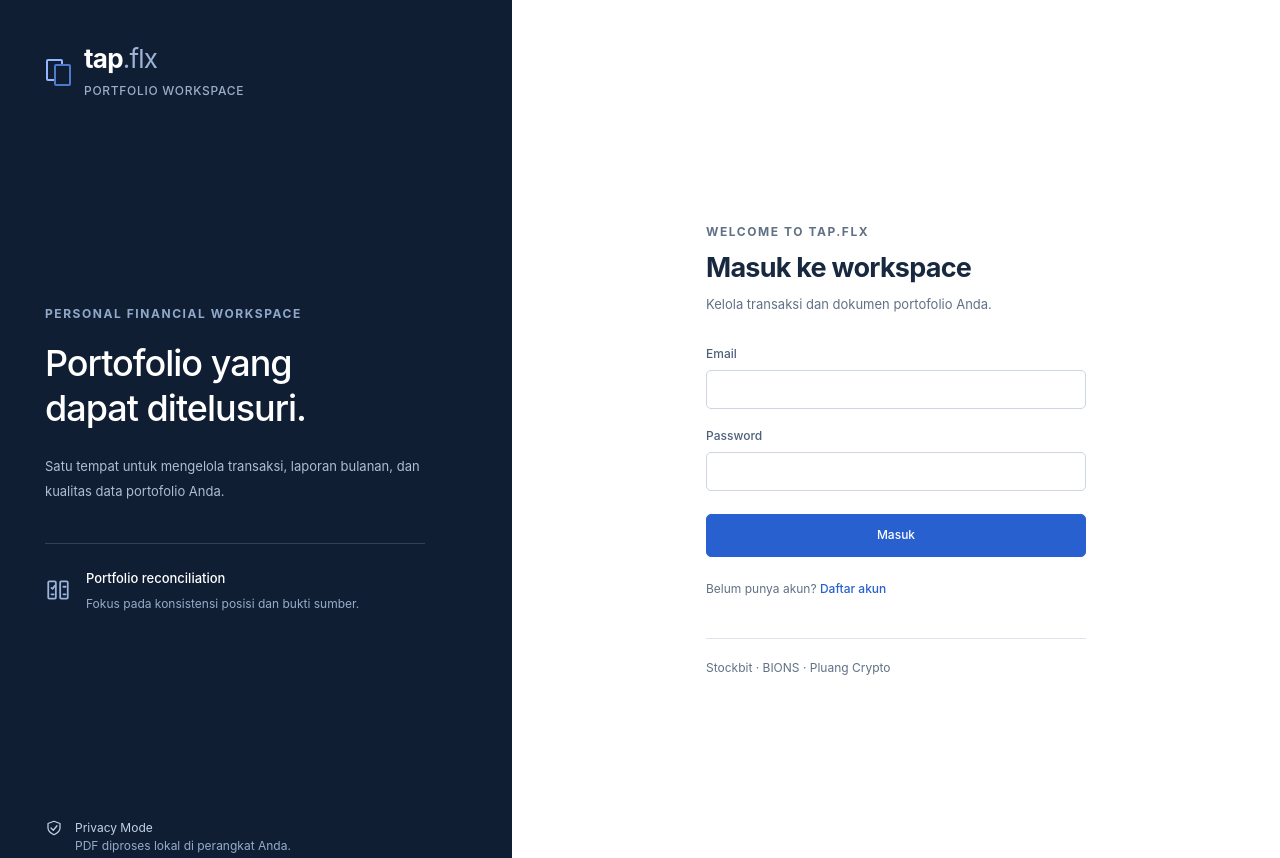
Test case: guards authenticated pages and preserves the requested destination after login
Expected: the heading "Masuk ke workspace" is shown, [706,251,971,284]
Type "demo@example.test" into the field labelled "Email" at [896, 389], box [706,370,1086,409]
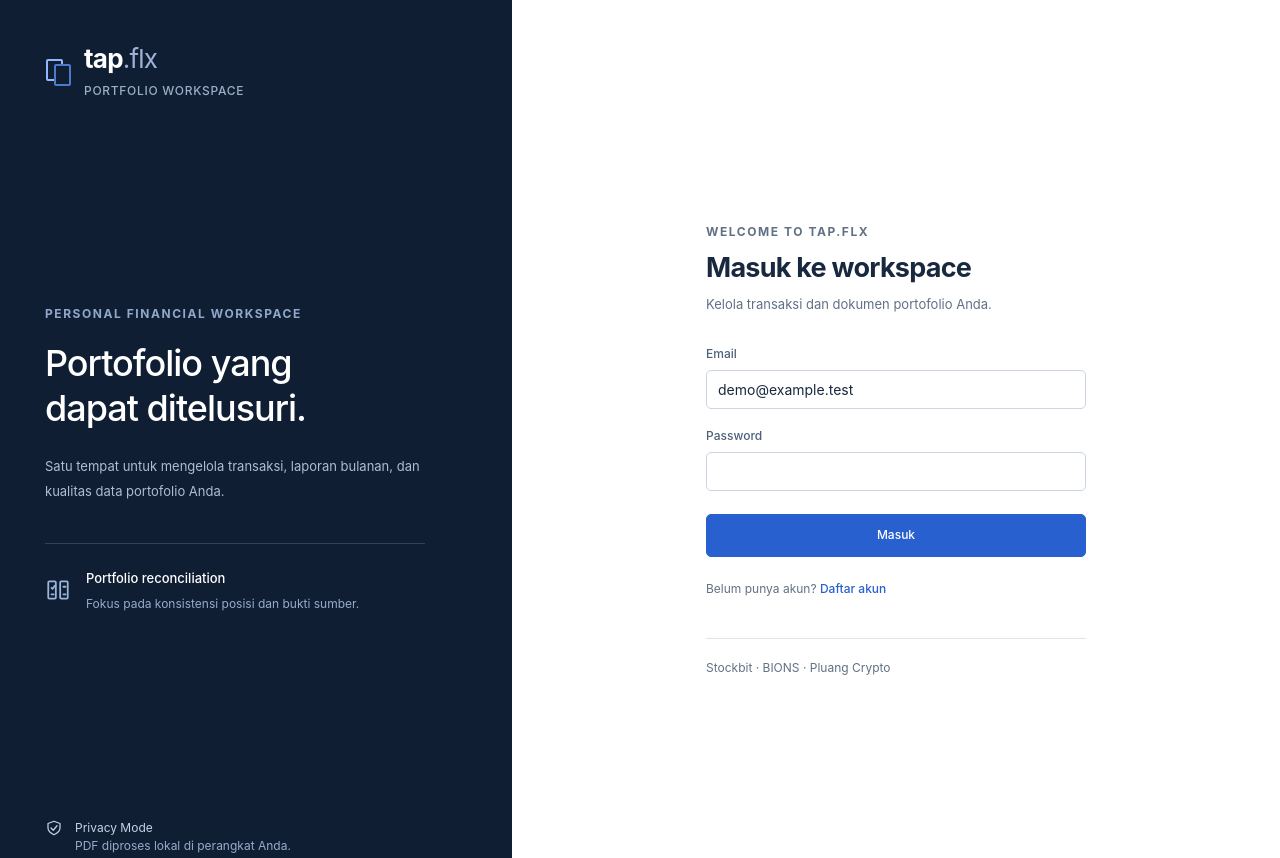
Type "  meaningful spaces  " into the password field labelled "Password" at [896, 471], box [706,452,1086,491]
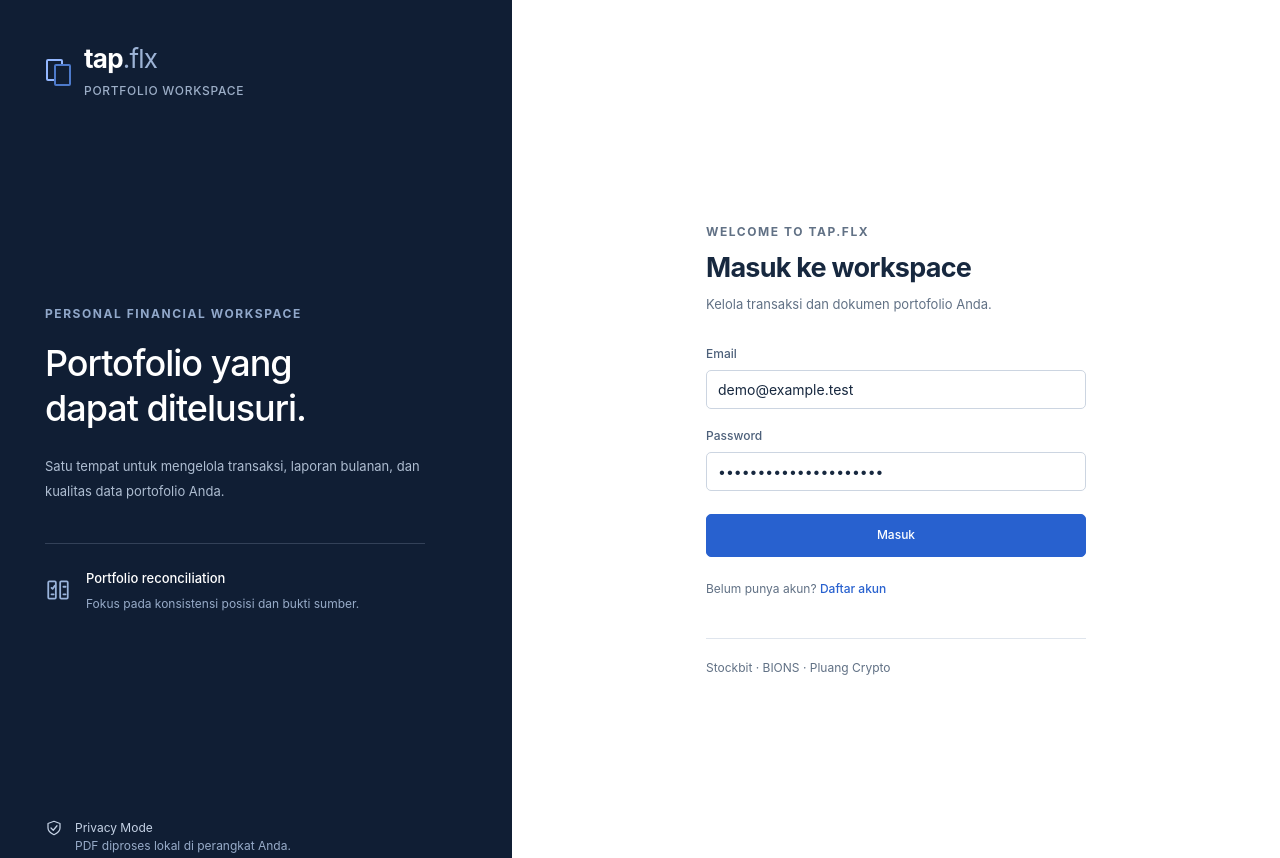
Click the button "Masuk" at [896, 535], box [706,514,1086,557]
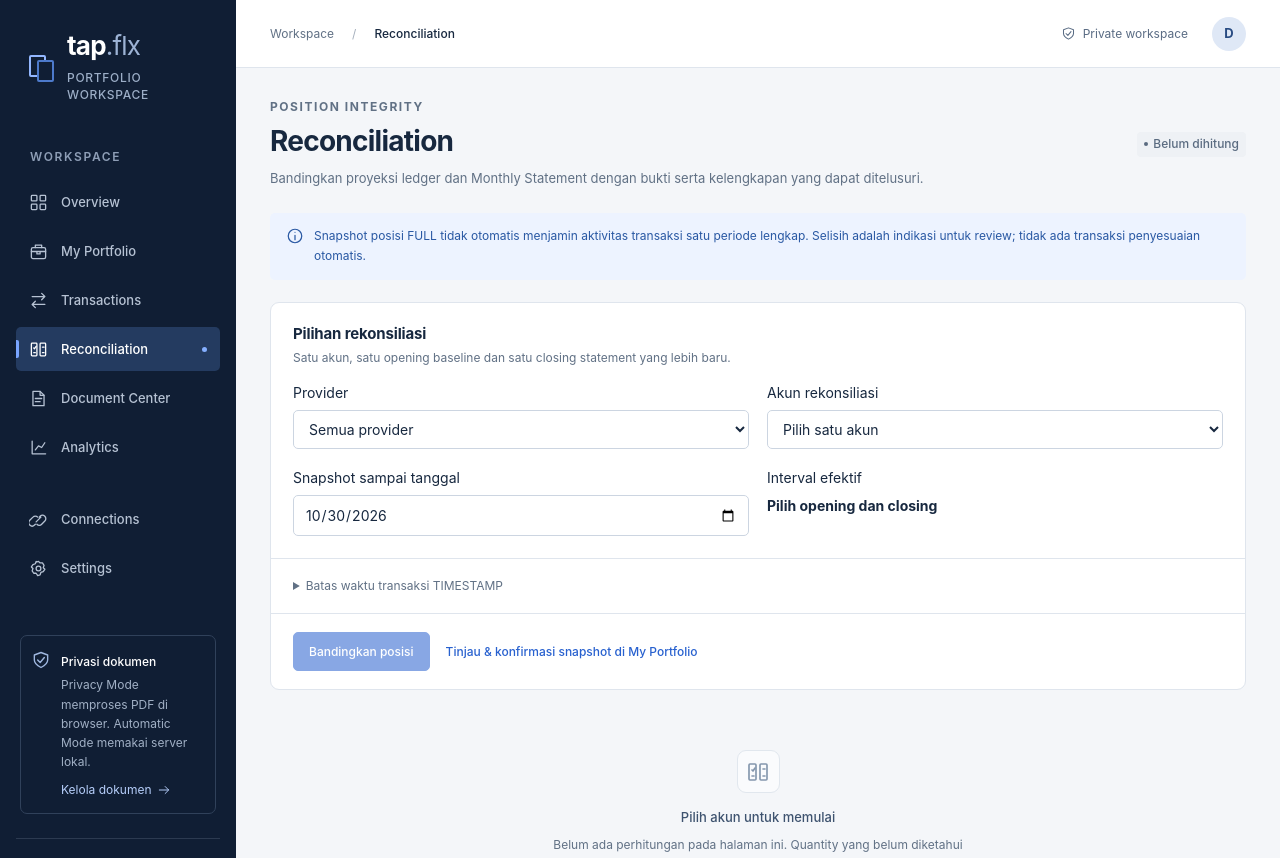
Now the heading "Reconciliation" is shown, box [270,124,453,158]
